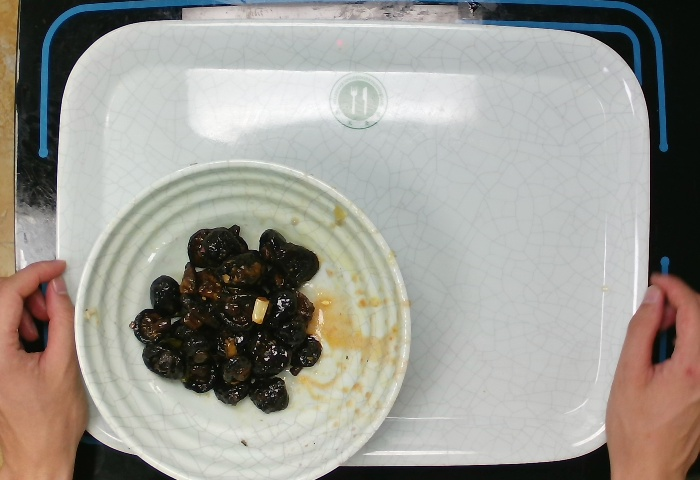JYsf-Da_Tang_Wan: (69, 154, 420, 480)
